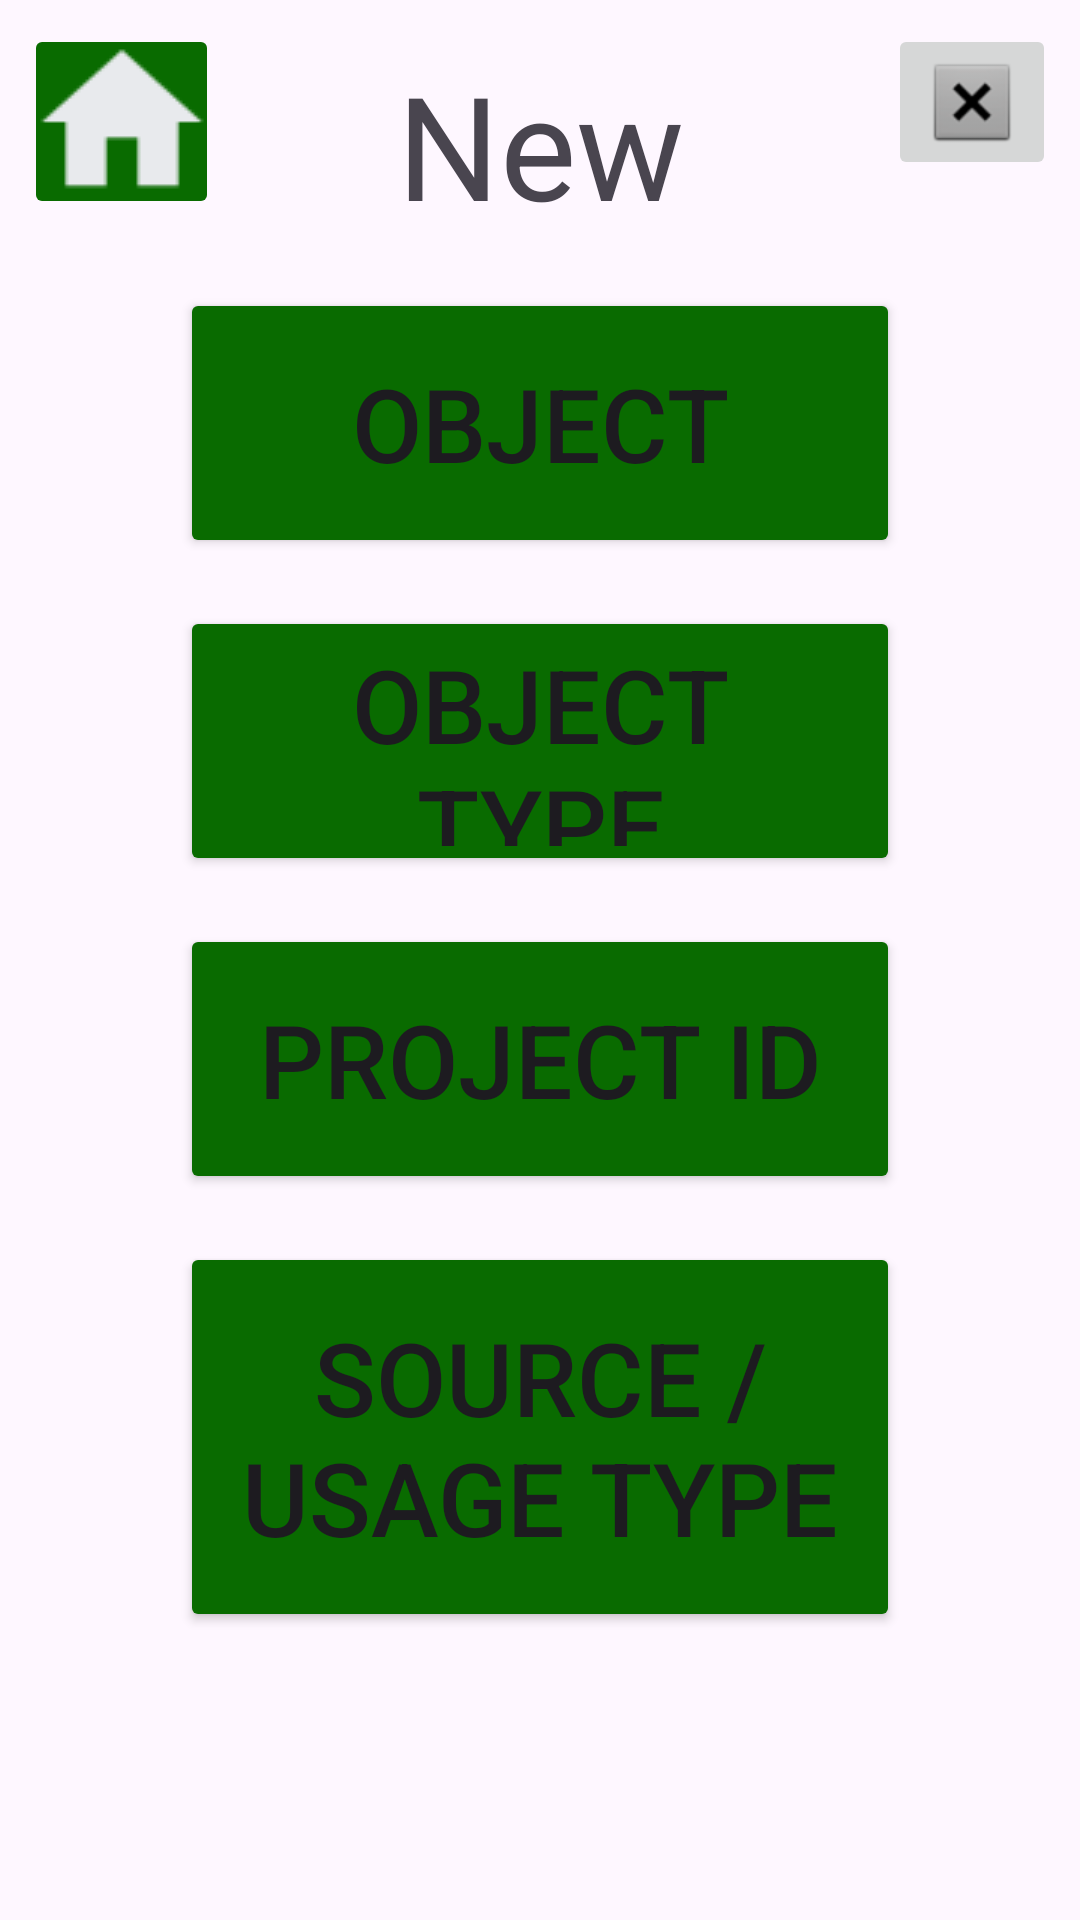

Screen size 1080px x 1920px. Icon name, then its center in pixels as [x,y]:
homebtn: [121,121]
